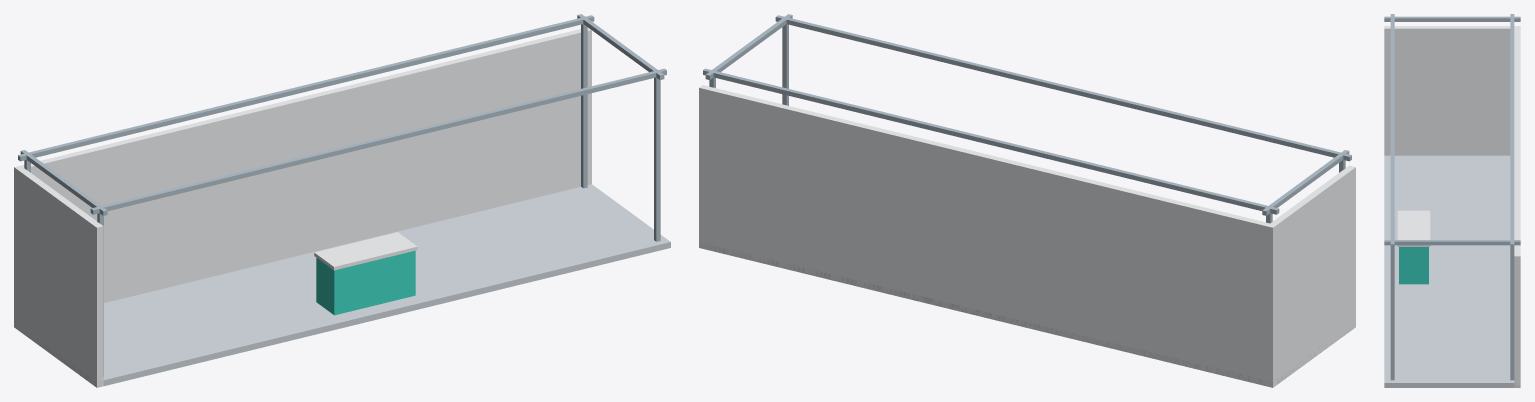
3 renders of one model, left to right at view 1: azimuth 30°, elevation 25°; view 2: azimuth 150°, elevation 25°; view 3: azimuth 270°, elevation 25°, orthographic. The views are drawn at different scales.
Visible parts, largest first — view 1: Exhibition Booth Concept; view 2: Exhibition Booth Concept; view 3: Exhibition Booth Concept.
Boxes of the visible parts, bbox=[...] form: Exhibition Booth Concept: bbox=[14, 14, 670, 387]; Exhibition Booth Concept: bbox=[699, 14, 1355, 387]; Exhibition Booth Concept: bbox=[1384, 14, 1520, 387].
Size of the model in its own units: 12 by 3.49 by 3.
